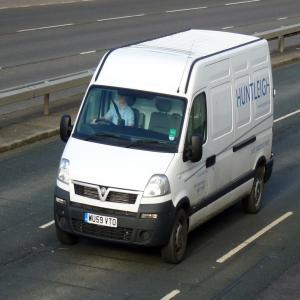Vehicle-registration-plate: (85, 214, 119, 228)
